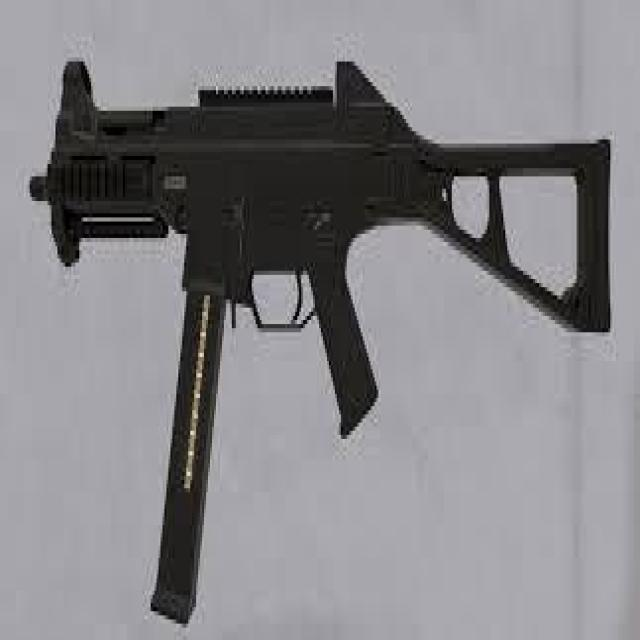Gun: (17, 39, 617, 600)
